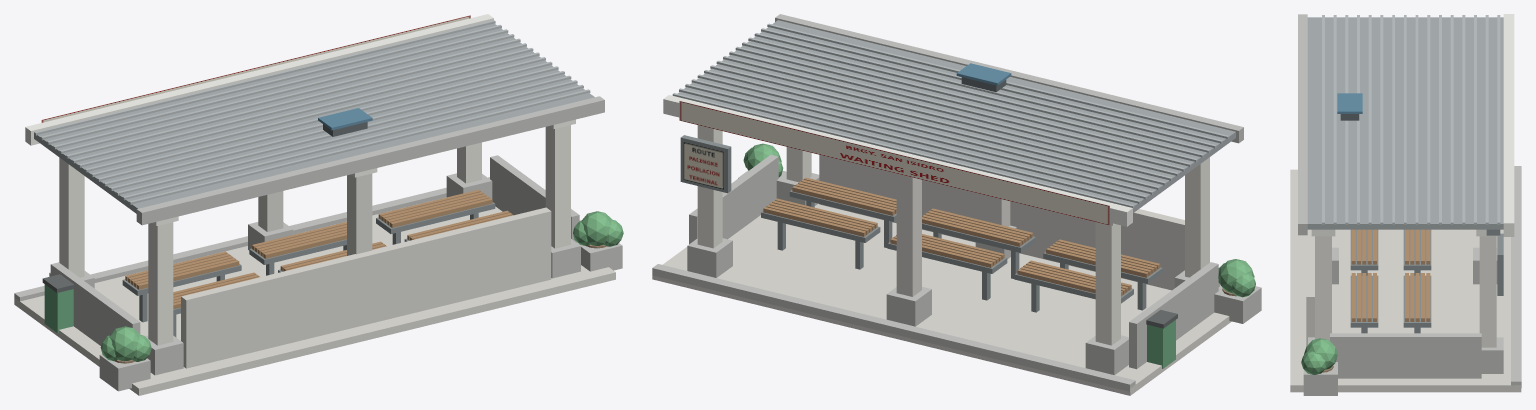
The model's file is Barangay_Waiting_Shed.glb.
The picture shows the model from 3 angles, left to right: view 1: azimuth 30°, elevation 25°; view 2: azimuth 150°, elevation 25°; view 3: azimuth 270°, elevation 25°; orthographic projection. The views are drawn at different scales.
Visible parts, largest first — view 1: Merged_196_194_183_255, Merged_137_147_150_255, Merged_109_119_123_255, Merged_157_159_153_255, Merged_226_224_210_255, Merged_132_82_45_255, Merged_239_239_230_255, Merged_74_84_87_255, Merged_53_127_64_255, BRGY_San_Isidro_Waiting_Shed_Sign, Merged_44_114_62_255, Merged_35_76_107_255; view 2: Merged_196_194_183_255, Merged_137_147_150_255, Merged_109_119_123_255, Merged_157_159_153_255, Merged_132_82_45_255, BRGY_San_Isidro_Waiting_Shed_Sign, Merged_226_224_210_255, Merged_74_84_87_255, Merged_239_239_230_255, Merged_53_127_64_255, Route_Board_Text, Merged_44_114_62_255 (+1 smaller); view 3: Merged_109_119_123_255, Merged_196_194_183_255, Merged_157_159_153_255, Merged_137_147_150_255, Merged_132_82_45_255, Merged_226_224_210_255, Merged_74_84_87_255, Merged_239_239_230_255, Merged_53_127_64_255, Merged_35_76_107_255.
Boxes of the visible parts, x1,y1,x2,y2 form: Merged_196_194_183_255: [14, 173, 615, 395]; Merged_137_147_150_255: [34, 20, 590, 204]; Merged_109_119_123_255: [34, 23, 594, 213]; Merged_157_159_153_255: [14, 96, 622, 391]; Merged_226_224_210_255: [59, 125, 570, 345]; Merged_132_82_45_255: [125, 189, 513, 309]; Merged_239_239_230_255: [25, 14, 575, 225]; Merged_74_84_87_255: [122, 202, 495, 337]; Merged_53_127_64_255: [100, 211, 623, 361]; BRGY_San_Isidro_Waiting_Shed_Sign: [41, 15, 470, 122]; Merged_44_114_62_255: [44, 284, 73, 333]; Merged_35_76_107_255: [318, 108, 372, 130]; Merged_196_194_183_255: [652, 155, 1231, 395]; Merged_137_147_150_255: [672, 23, 1229, 208]; Merged_109_119_123_255: [677, 20, 1235, 212]; Merged_157_159_153_255: [652, 14, 1261, 391]; Merged_132_82_45_255: [763, 177, 1160, 296]; BRGY_San_Isidro_Waiting_Shed_Sign: [679, 101, 1109, 225]; Merged_226_224_210_255: [697, 125, 1209, 345]; Merged_74_84_87_255: [680, 135, 1162, 312]; Merged_239_239_230_255: [663, 95, 1132, 226]; Merged_53_127_64_255: [743, 143, 1255, 297]; Route_Board_Text: [683, 142, 724, 189]; Merged_44_114_62_255: [1147, 320, 1175, 368]; Merged_109_119_123_255: [1307, 17, 1503, 229]; Merged_196_194_183_255: [1290, 169, 1521, 392]; Merged_157_159_153_255: [1298, 14, 1521, 395]; Merged_137_147_150_255: [1322, 15, 1500, 224]; Merged_132_82_45_255: [1351, 229, 1430, 321]; Merged_226_224_210_255: [1315, 236, 1496, 347]; Merged_74_84_87_255: [1350, 229, 1503, 333]; Merged_239_239_230_255: [1311, 14, 1514, 236]; Merged_53_127_64_255: [1301, 338, 1337, 374]; Merged_35_76_107_255: [1337, 93, 1362, 113].
Size of the model in its own units: 10.34 by 3.78 by 4.36.
Materials: 16 (2 with a texture image).
